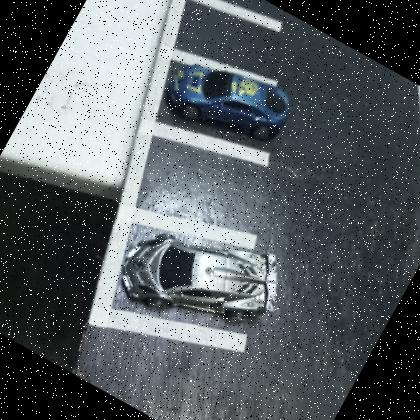Car: (106, 190, 300, 365), (157, 39, 300, 162)
